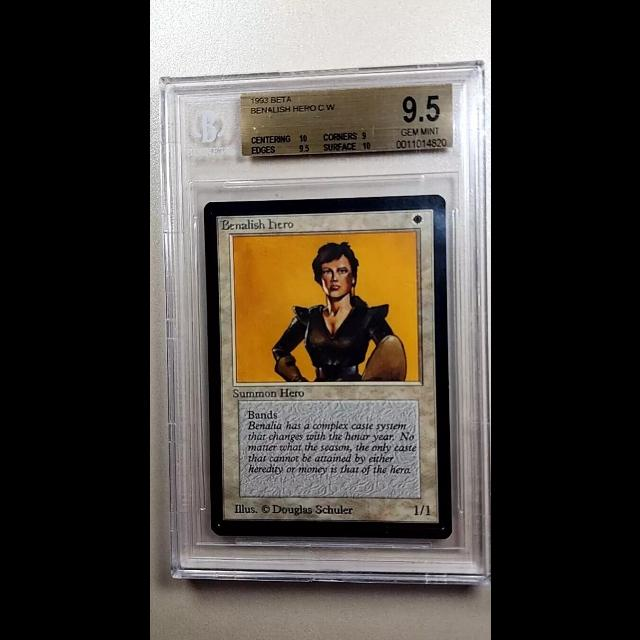bgs_label: (238, 83, 453, 158)
bgs_slab: (159, 59, 490, 587)
card: (201, 194, 452, 540)
